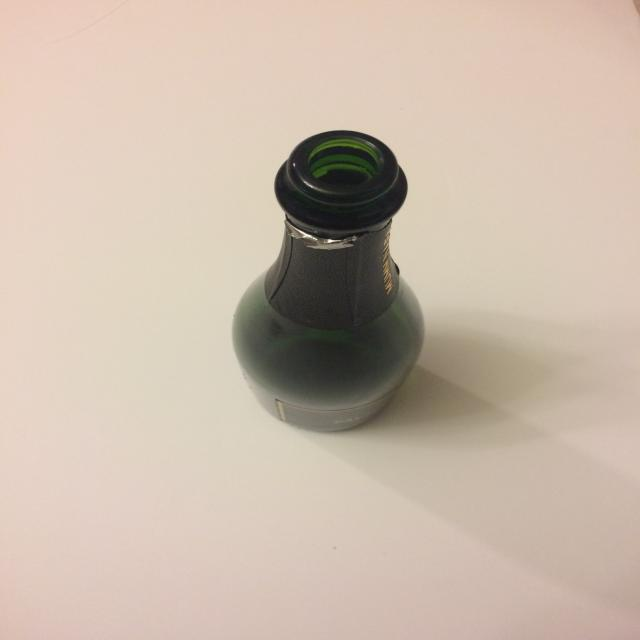glass: (230, 129, 427, 432)
